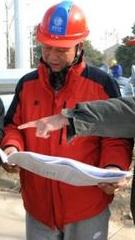hard-hat: (36, 0, 89, 49)
vest: (0, 66, 58, 234)
